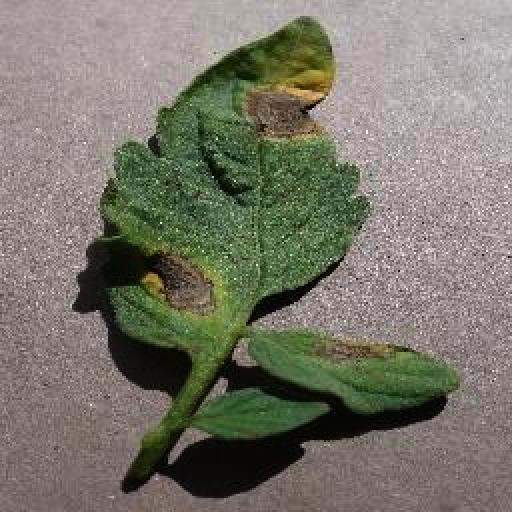disease_tomato: (87, 12, 368, 342)
